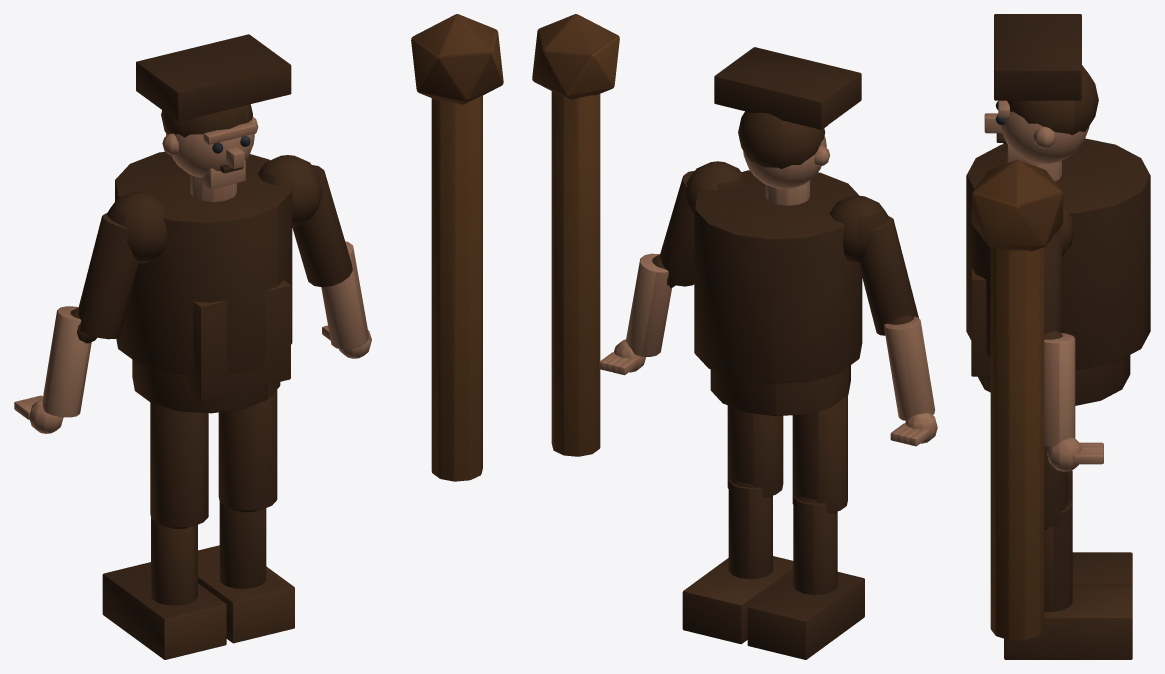
File: unit_freetown_brute.fbx
The picture shows the model from 3 angles, left to right: view 1: azimuth 30°, elevation 25°; view 2: azimuth 150°, elevation 25°; view 3: azimuth 270°, elevation 25°; orthographic projection. The views are drawn at different scales.
Parts seen in each view (by area): view 1: unit_freetown_brute; view 2: unit_freetown_brute; view 3: unit_freetown_brute.
Boxes of the visible parts, <box> form: unit_freetown_brute: <box>14,14,503,659</box>; unit_freetown_brute: <box>532,14,937,659</box>; unit_freetown_brute: <box>966,14,1150,659</box>.
Size of the model in its own units: 2.05 by 2.52 by 0.72.
